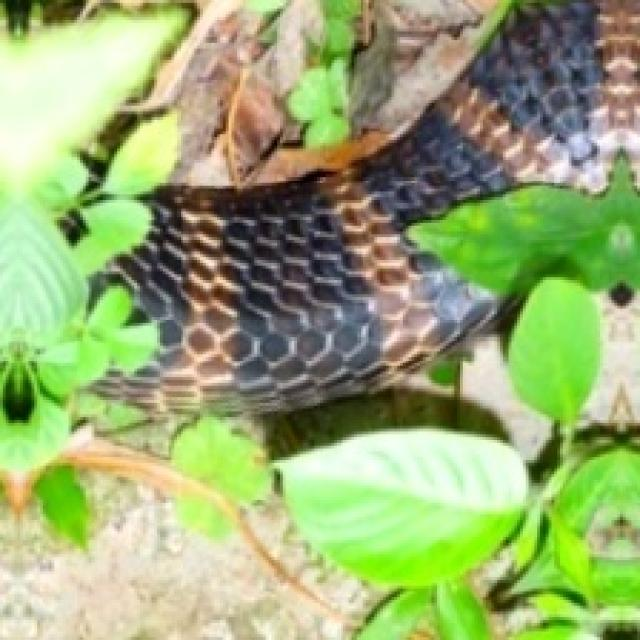king cobra: (100, 0, 637, 411)
